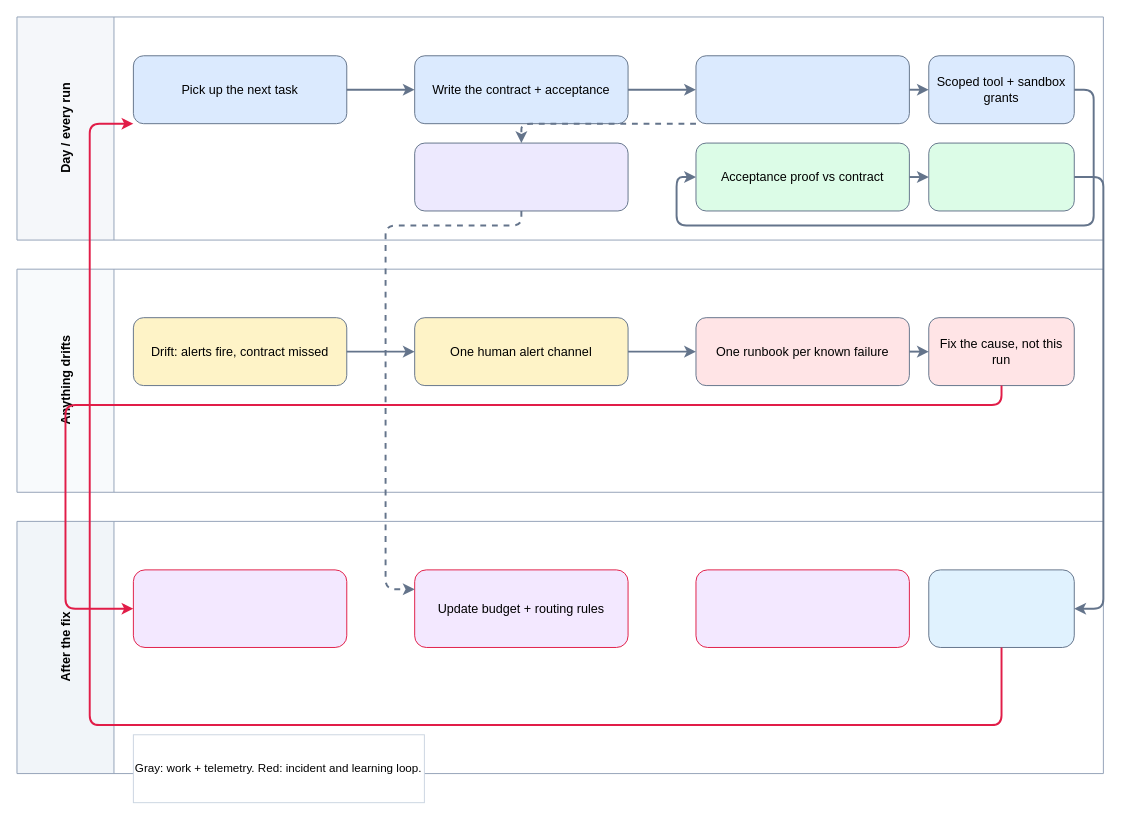
This 1129x820 diagram has some shape labels left out. Each missing label, with the centre of its shape:
Keeper restarts what died only: point 1001,608
Land it or throw the worktree away: point 1001,176
One session, bounded context: point 802,89
Review loop: contract / routing / perms: point 239,608
Telemetry: sessions, tokens, cost: point 521,176
Write the next runbook: point 802,608
